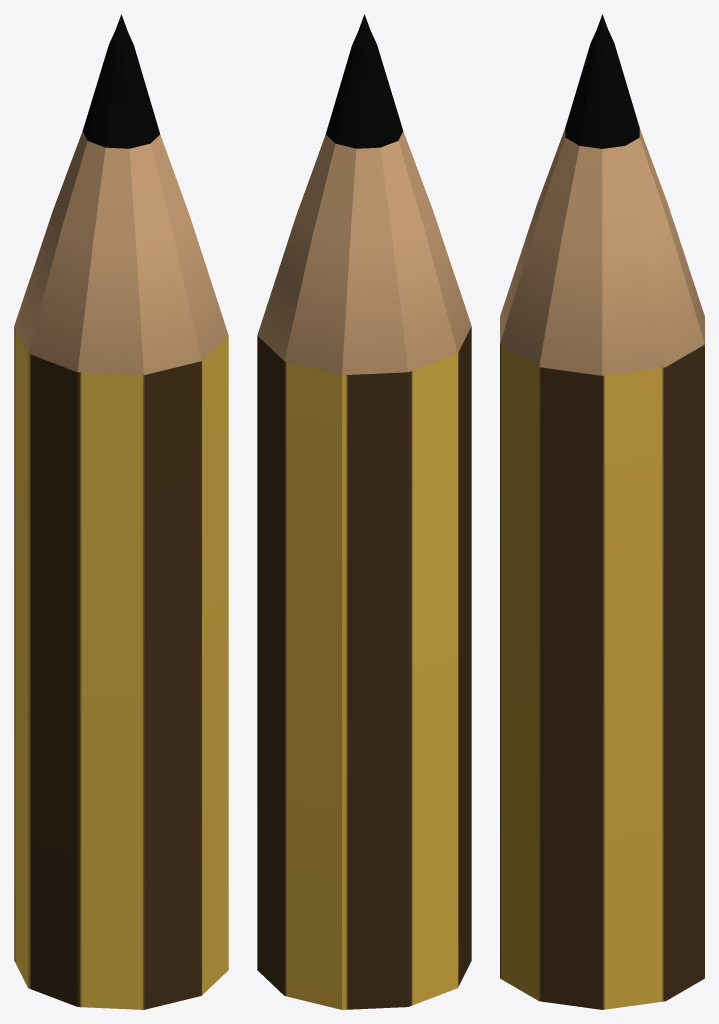
Rendered from pencil.fbx.
The picture shows the model from 3 angles, left to right: view 1: azimuth 30°, elevation 25°; view 2: azimuth 150°, elevation 25°; view 3: azimuth 270°, elevation 25°; orthographic projection.
Parts seen in each view (by area): view 1: pencil; view 2: pencil; view 3: pencil.
Part boxes in pixels (x1=…): pencil: x1=14, y1=14, x2=228, y2=1009; pencil: x1=257, y1=14, x2=471, y2=1009; pencil: x1=500, y1=14, x2=704, y2=1009.
Bounding box in the file's own units: 3.09 × 15.07 × 2.94.
